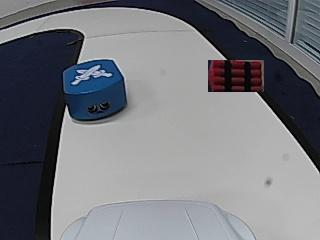spy: (70, 64, 112, 84)
